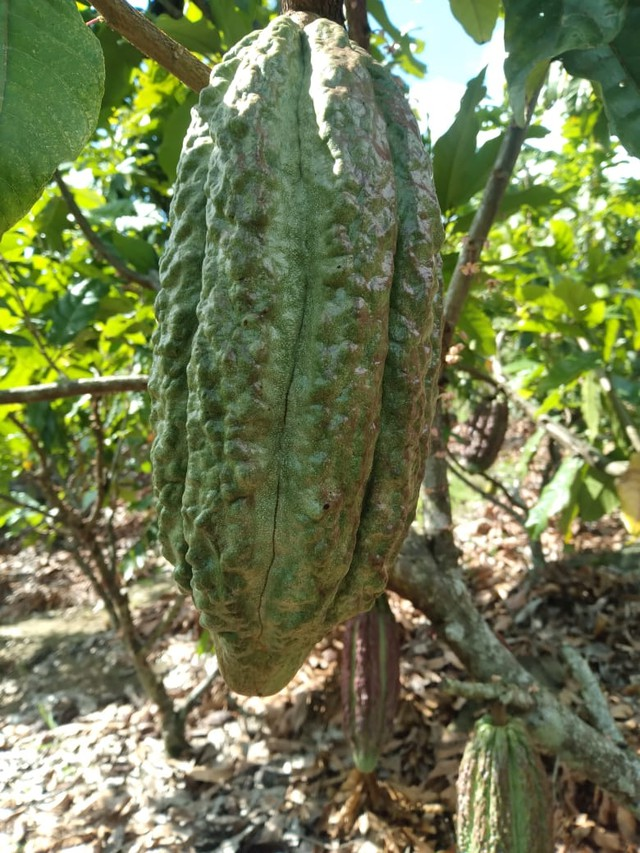Health: (117, 1, 478, 736)
